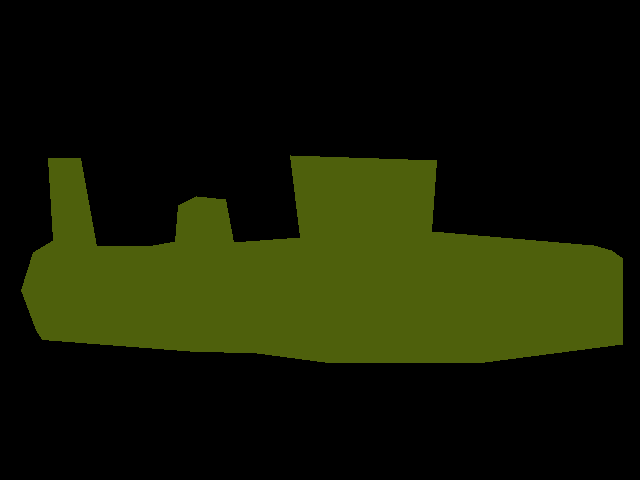Train: (21, 155, 623, 363)
